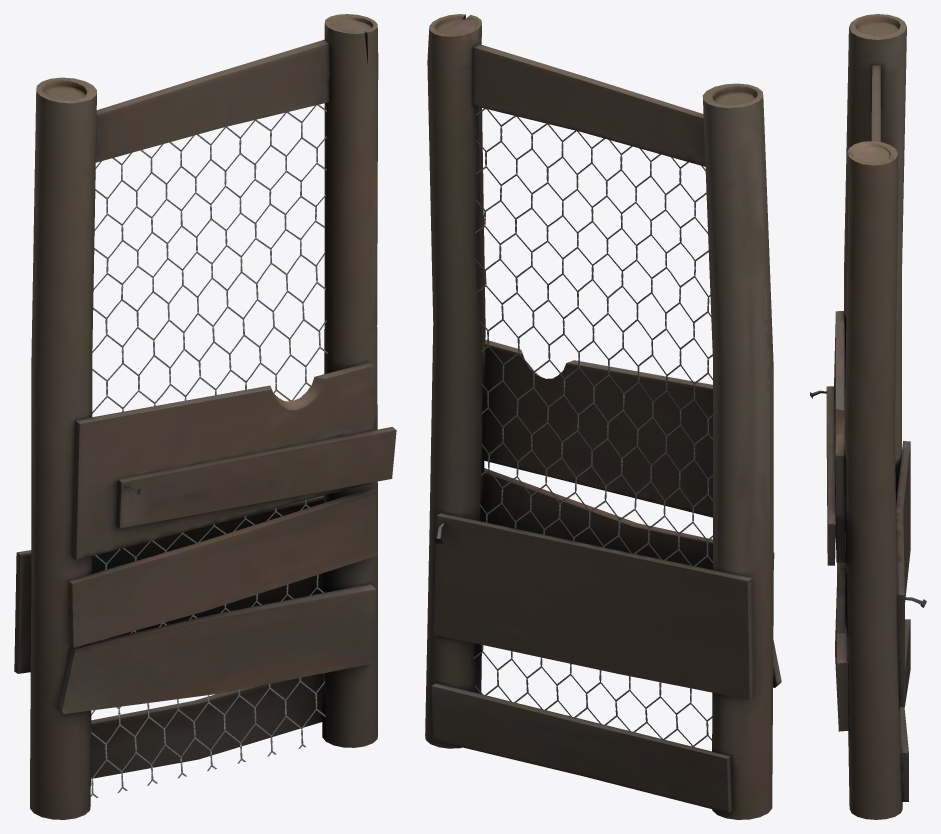
3 views of the same model, side by side, from view 1: azimuth 30°, elevation 25°; view 2: azimuth 150°, elevation 25°; view 3: azimuth 270°, elevation 25° (orthographic). The views are drawn at different scales.
Parts seen in each view (by area): view 1: body0_model0_lod0_mesh0, body0_model0_lod0_mesh1; view 2: body0_model0_lod0_mesh0, body0_model0_lod0_mesh1; view 3: body0_model0_lod0_mesh0.
Part boxes in pixels (bbox=[...]): body0_model0_lod0_mesh0: bbox=[14, 14, 396, 819]; body0_model0_lod0_mesh1: bbox=[90, 104, 327, 797]; body0_model0_lod0_mesh0: bbox=[425, 14, 781, 819]; body0_model0_lod0_mesh1: bbox=[473, 108, 712, 746]; body0_model0_lod0_mesh0: bbox=[810, 14, 926, 819].
Bounding box in the file's own units: 66.35 × 133 × 21.41.
Materials: 2 (2 with a texture image).
